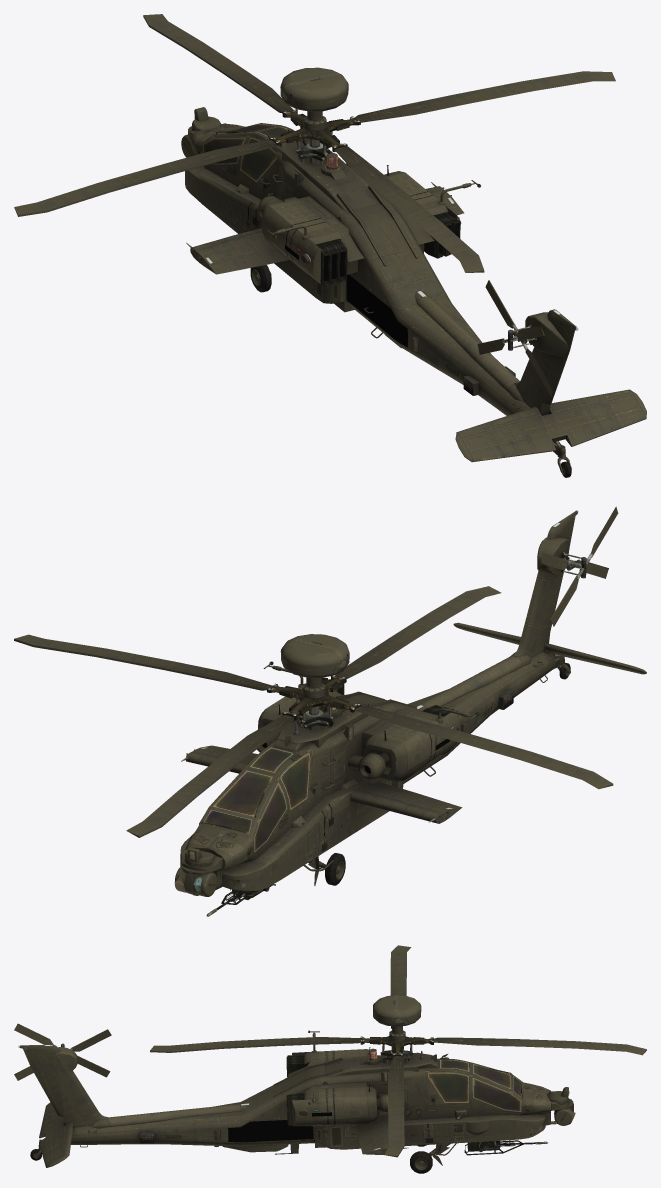
3 renders of one model, top to bottom at view 1: azimuth 30°, elevation 25°; view 2: azimuth 150°, elevation 25°; view 3: azimuth 270°, elevation 25°, orthographic. The views are drawn at different scales.
Parts seen in each view (by area): view 1: A_ah64_v2; view 2: A_ah64_v2; view 3: A_ah64_v2.
Boxes of the visible parts, box(x1,y1,x2,y2) form: A_ah64_v2: box(14, 14, 646, 477); A_ah64_v2: box(14, 506, 646, 916); A_ah64_v2: box(14, 945, 646, 1173).
Bounding box in the file's own units: 38.89 × 13.57 × 49.64.
Materials: 5 (5 with a texture image).
